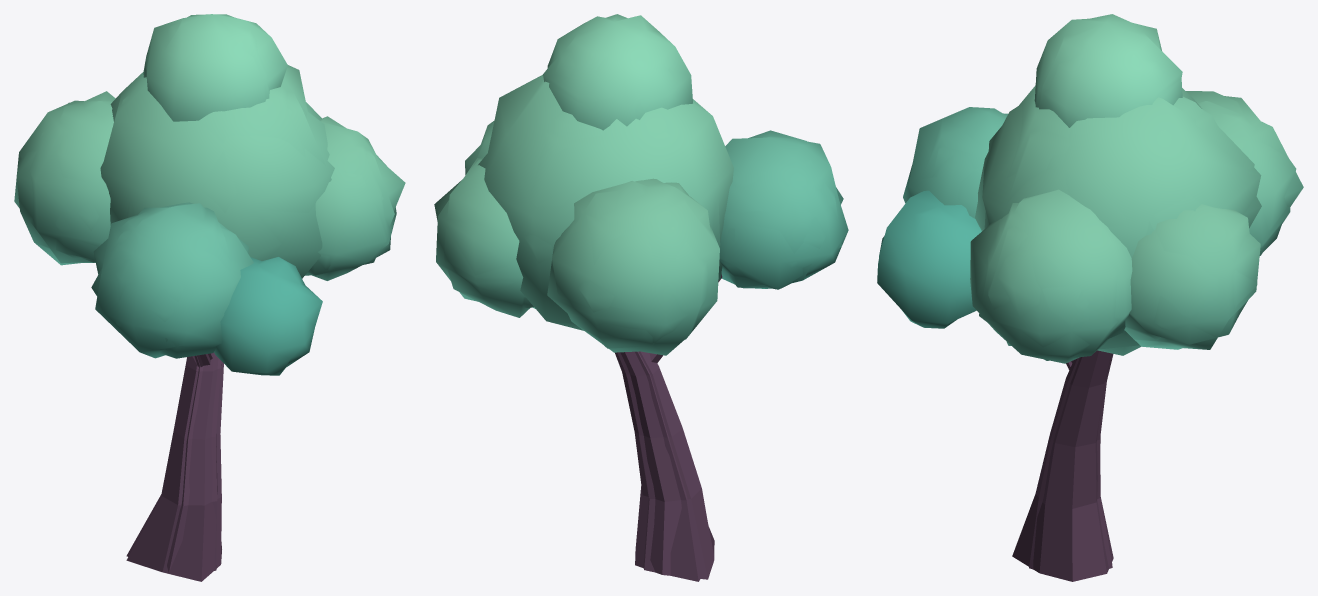
File: fol_tree_stranger_a.glb
The picture shows the model from 3 angles, left to right: view 1: azimuth 30°, elevation 25°; view 2: azimuth 150°, elevation 25°; view 3: azimuth 270°, elevation 25°; orthographic projection. The views are drawn at different scales.
Visible parts, largest first — view 1: lod0__tree_a_canopy, lod1__tree_a_canopy, lod0__tree_a_trunk, lod2__tree_a_canopy, lod1__tree_a_trunk; view 2: lod0__tree_a_canopy, lod1__tree_a_canopy, lod0__tree_a_trunk, lod2__tree_a_canopy, lod1__tree_a_trunk; view 3: lod0__tree_a_canopy, lod1__tree_a_canopy, lod0__tree_a_trunk, lod2__tree_a_canopy, lod1__tree_a_trunk.
Part boxes in pixels (box(x1,y1,x2,y2)): lod0__tree_a_canopy: box(16, 14, 405, 375); lod1__tree_a_canopy: box(14, 14, 396, 358); lod0__tree_a_trunk: box(126, 352, 223, 581); lod2__tree_a_canopy: box(39, 92, 394, 350); lod1__tree_a_trunk: box(126, 353, 221, 572); lod0__tree_a_canopy: box(434, 15, 848, 355); lod1__tree_a_canopy: box(436, 14, 841, 348); lod0__tree_a_trunk: box(615, 274, 722, 579); lod2__tree_a_canopy: box(509, 98, 843, 312); lod1__tree_a_trunk: box(617, 351, 713, 581); lod0__tree_a_canopy: box(877, 14, 1296, 363); lod1__tree_a_canopy: box(921, 24, 1290, 360); lod0__tree_a_trunk: box(1012, 350, 1113, 581); lod2__tree_a_canopy: box(932, 101, 1303, 345); lod1__tree_a_trunk: box(1029, 353, 1113, 569).
Bounding box in the file's own units: 2.81 × 4.45 × 3.04.
